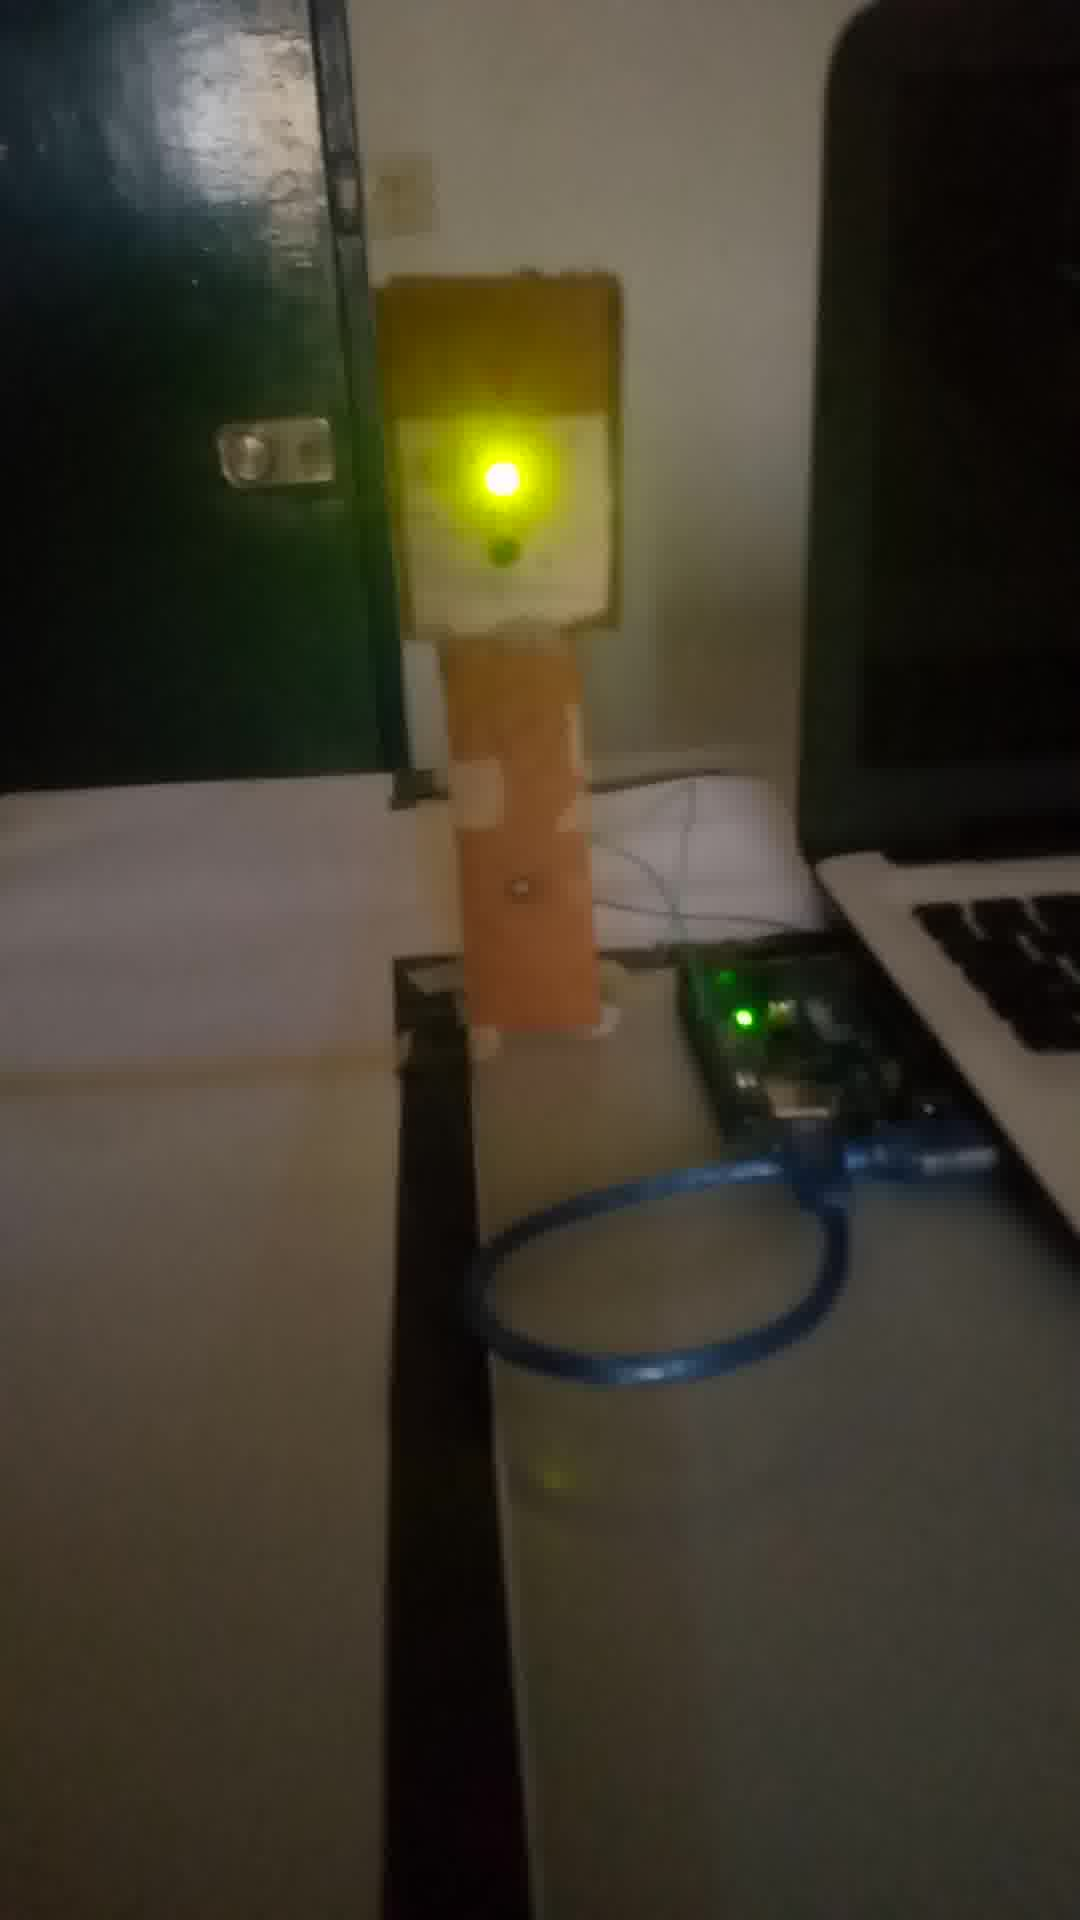yellow: (386, 274, 615, 629)
